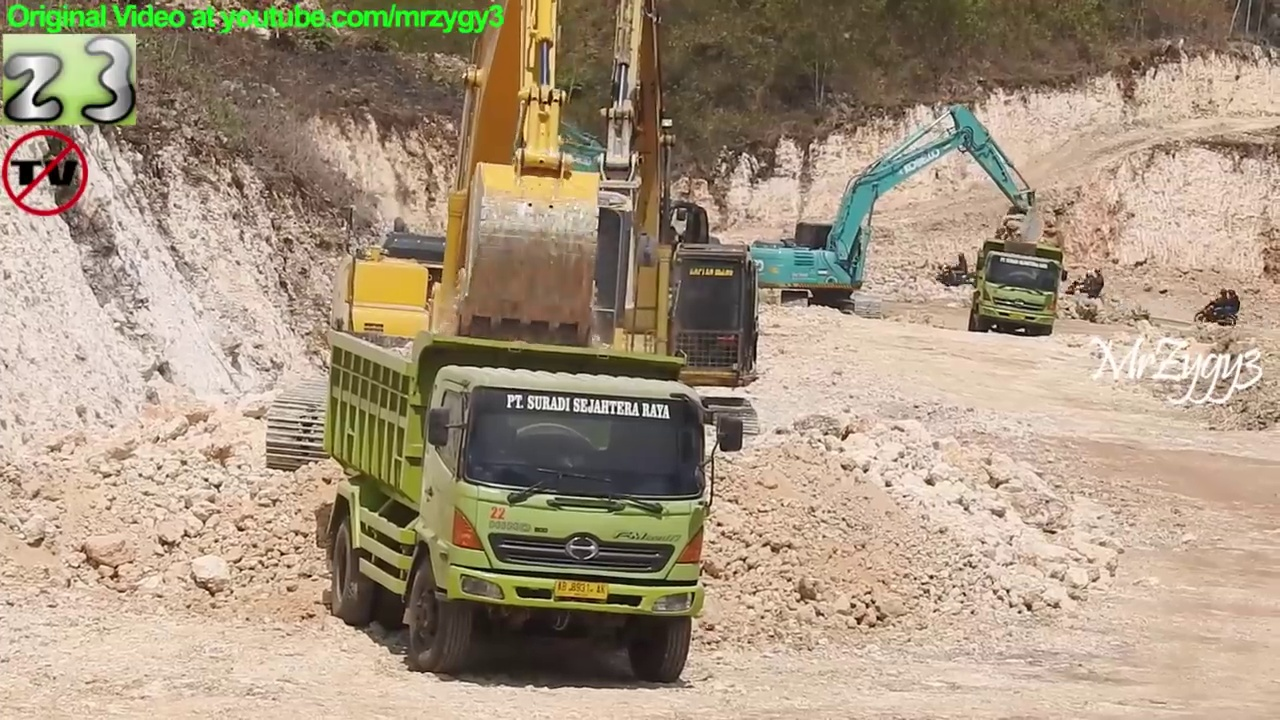excavator: (264, 1, 688, 478), (375, 3, 764, 469), (747, 98, 1050, 317)
truck: (319, 327, 747, 689), (965, 237, 1071, 338)
